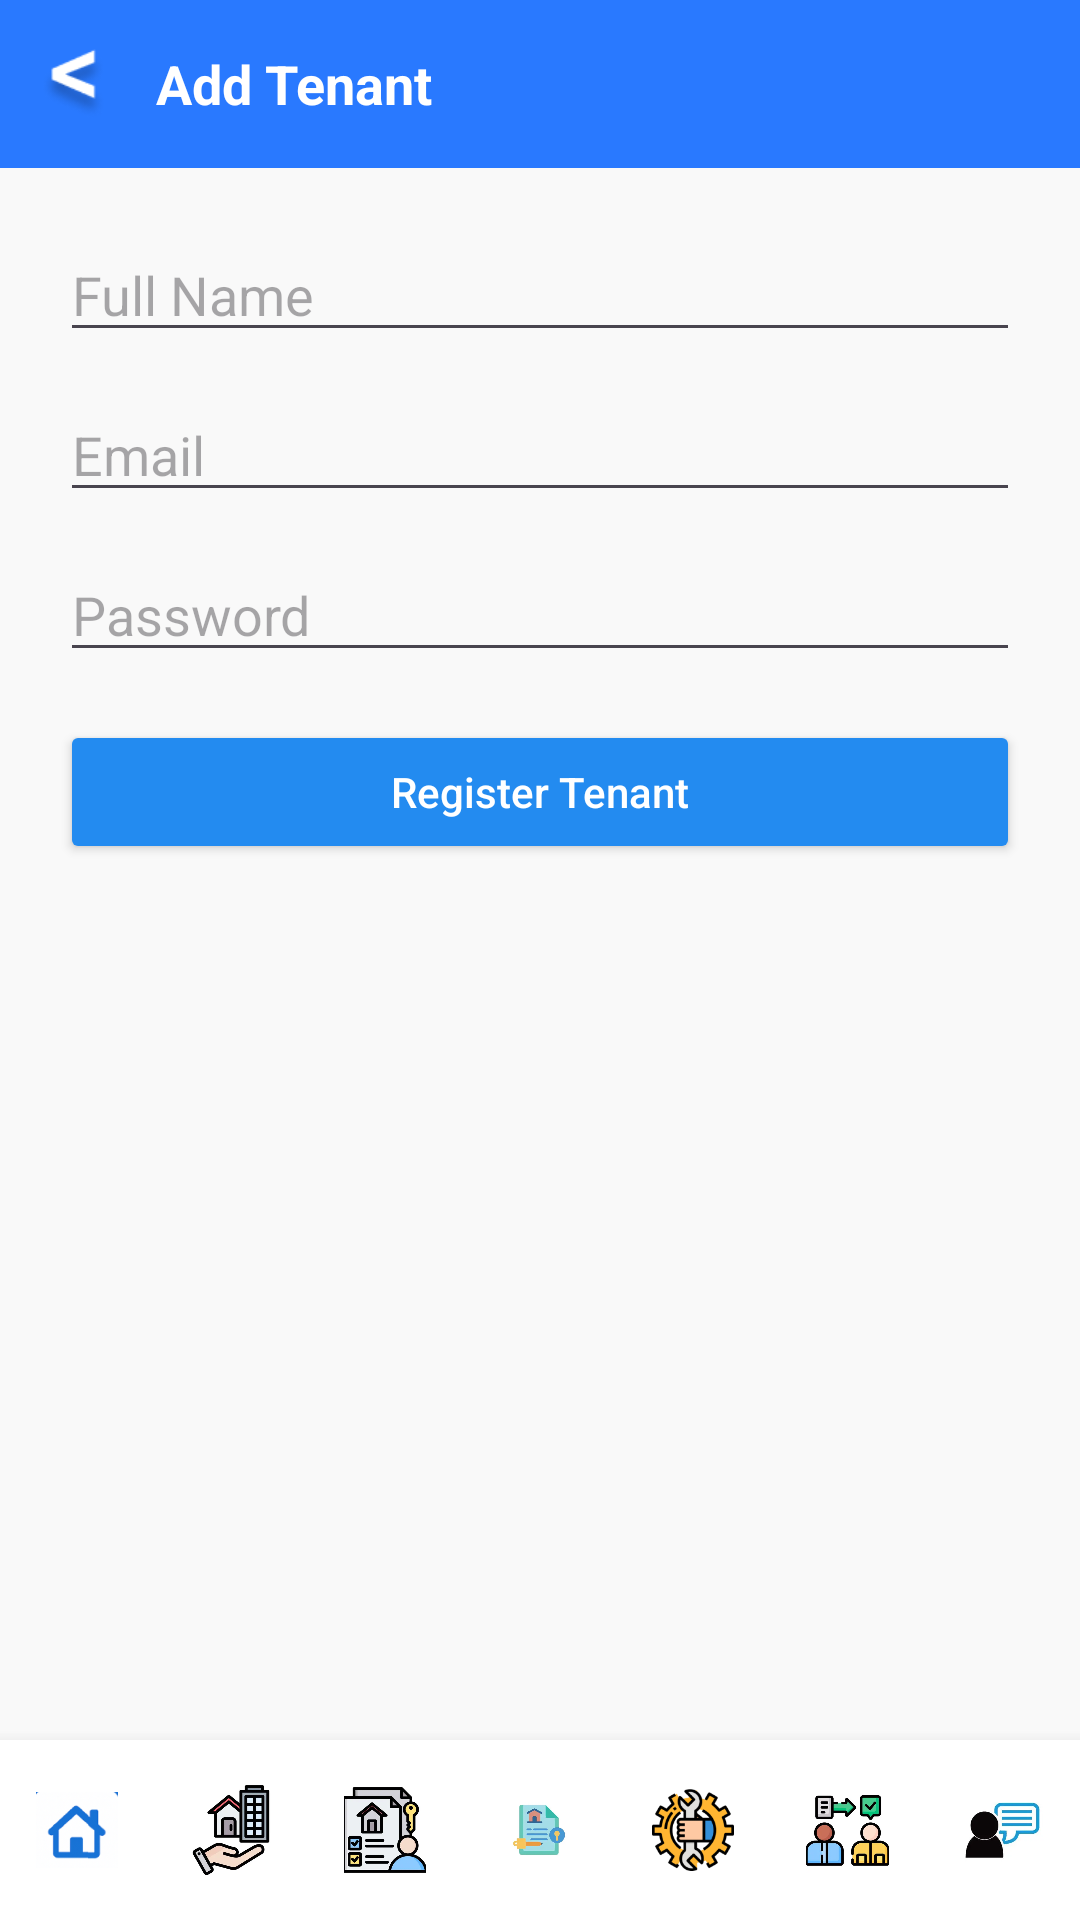

Named icons in this screenshot (1080 x 1920) and their centers, (x=x, y=y):
Assign Maintenance: (x=693, y=1830)
Back: (x=73, y=78)
Dashboard: (x=77, y=1825)
Manage Properties: (x=231, y=1830)
